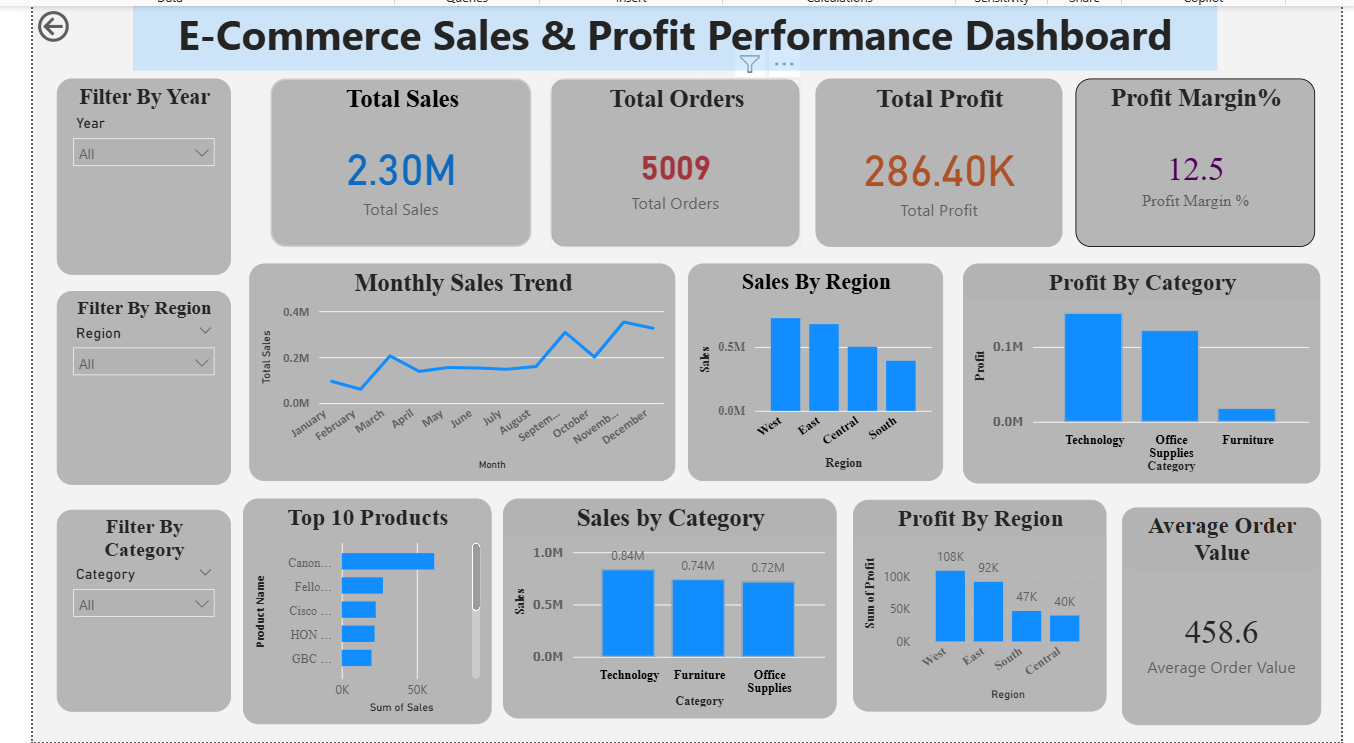

The page's visual inventory and layout, read from the dashboard file:
{"tool":"powerbi","page":{"name":"Sales Overview","canvas":[1280,720],"ordinal":0},"visuals":[{"type":"card","title":"Total Sales","fields":{"Values":["Orders.Total Sales"]},"box":[231.9,71.4,255.2,164.7],"z":0},{"type":"card","title":"Total Profit","fields":{"Values":["Orders.Total Profit"]},"box":[765.7,71.4,241.5,164.7],"z":1000},{"type":"actionButton","box":[0,0,100,40],"z":2000},{"type":"card","title":"Total Orders","fields":{"Values":["Orders.Total Orders"]},"box":[506.3,71.4,244.3,164.7],"z":3000},{"type":"lineChart","title":"Monthly Sales Trend","fields":{"Y":["Orders.Total Sales"],"Category":["Orders.Order Date.Variation.Date Hierarchy.Month"]},"box":[211.3,252.5,417.2,212.7],"z":4000},{"type":"clusteredBarChart","title":"Top 10 Products","fields":{"Y":["Sum(Orders.Sales)"],"Category":["Orders.Product Name"]},"box":[205.8,481.6,242.9,220.9],"z":5000},{"type":"clusteredColumnChart","title":" Sales by Category","fields":{"Category":["Orders.Category"],"Y":["Sum(Orders.Sales)"]},"box":[459.7,481.6,326.6,215.4],"z":6000},{"type":"clusteredColumnChart","title":"Sales By Region","fields":{"Category":["Orders.Region"],"Y":["Sum(Orders.Sales)"]},"box":[640.8,252.5,249.7,212.7],"z":7000},{"type":"slicer","title":"Filter By Year","fields":{"Values":["Orders.Order Date.Variation.Date Hierarchy.Year"]},"box":[23.3,71.4,170.2,192.1],"z":8000},{"type":"slicer","title":"Filter By Region ","fields":{"Values":["Orders.Region"]},"box":[23.3,278.6,170.2,189.4],"z":9000},{"type":"slicer","title":"Filter By Category","fields":{"Values":["Orders.Category"]},"box":[23.3,492.6,170.2,197.6],"z":10000},{"type":"textbox","title":"E-Commerce Sales & Profit Performance Dashboard","box":[97.4,0,1060.7,63.1],"z":11000},{"type":"card","title":"Profit Margin%","fields":{"Values":["Orders.Profit Margin %"]},"box":[1019.6,71.4,234.6,164.7],"z":12000},{"type":"card","title":"Average Order Value","fields":{"Values":["Orders.Average Order Value"]},"box":[1064.8,489.9,194.9,212.7],"z":13000},{"type":"clusteredColumnChart","title":"Profit By Category","fields":{"Category":["Orders.Category"],"Y":["Sum(Orders.Profit)"]},"box":[909.8,252.5,349.9,215.4],"z":14000},{"type":"clusteredColumnChart","title":"Profit By Region","fields":{"Category":["Orders.Region"],"Y":["Sum(Orders.Profit)"]},"box":[802.7,483,248.4,207.2],"z":15000}]}

Visuals, with their boxes in screenshot pixels (x1, y1, x2, y2):
"Total Sales" card: <bbox>268, 97, 528, 265</bbox>
"Total Profit" card: <bbox>812, 97, 1058, 265</bbox>
actionButton: <bbox>32, 25, 134, 65</bbox>
"Total Orders" card: <bbox>548, 97, 797, 265</bbox>
"Monthly Sales Trend" lineChart: <bbox>247, 282, 672, 499</bbox>
"Top 10 Products" clusteredBarChart: <bbox>241, 515, 489, 741</bbox>
" Sales by Category" clusteredColumnChart: <bbox>500, 515, 833, 735</bbox>
"Sales By Region" clusteredColumnChart: <bbox>685, 282, 939, 499</bbox>
"Filter By Year" slicer: <bbox>55, 97, 229, 293</bbox>
"Filter By Region " slicer: <bbox>55, 309, 229, 502</bbox>
"Filter By Category" slicer: <bbox>55, 527, 229, 728</bbox>
"E-Commerce Sales & Profit Performance Dashboard" textbox: <bbox>131, 25, 1212, 89</bbox>
"Profit Margin%" card: <bbox>1071, 97, 1310, 265</bbox>
"Average Order Value" card: <bbox>1117, 524, 1315, 741</bbox>
"Profit By Category" clusteredColumnChart: <bbox>959, 282, 1315, 501</bbox>
"Profit By Region" clusteredColumnChart: <bbox>850, 517, 1103, 728</bbox>
